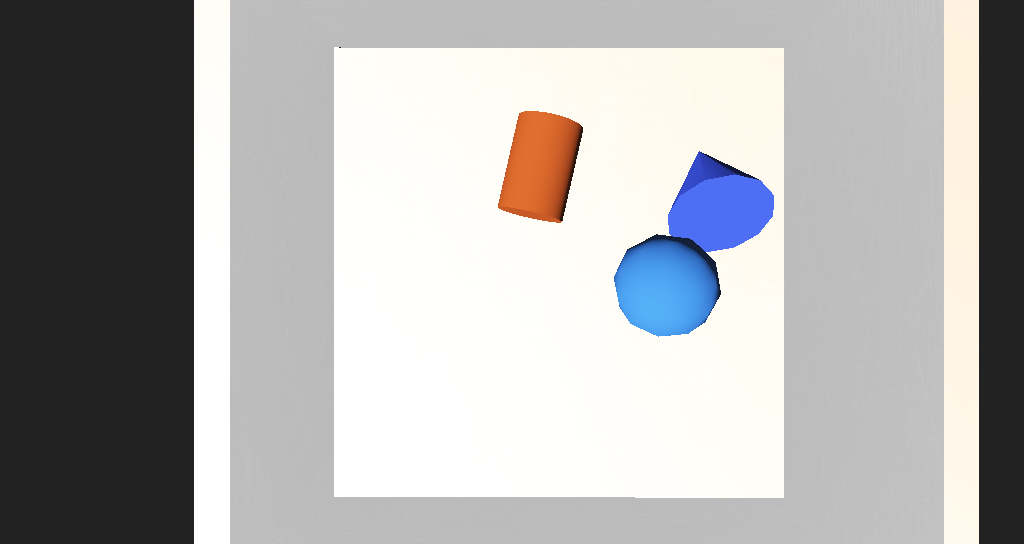cone: (461, 193, 522, 246)
cylinder: (569, 191, 643, 258)
sphere: (532, 248, 600, 296)
